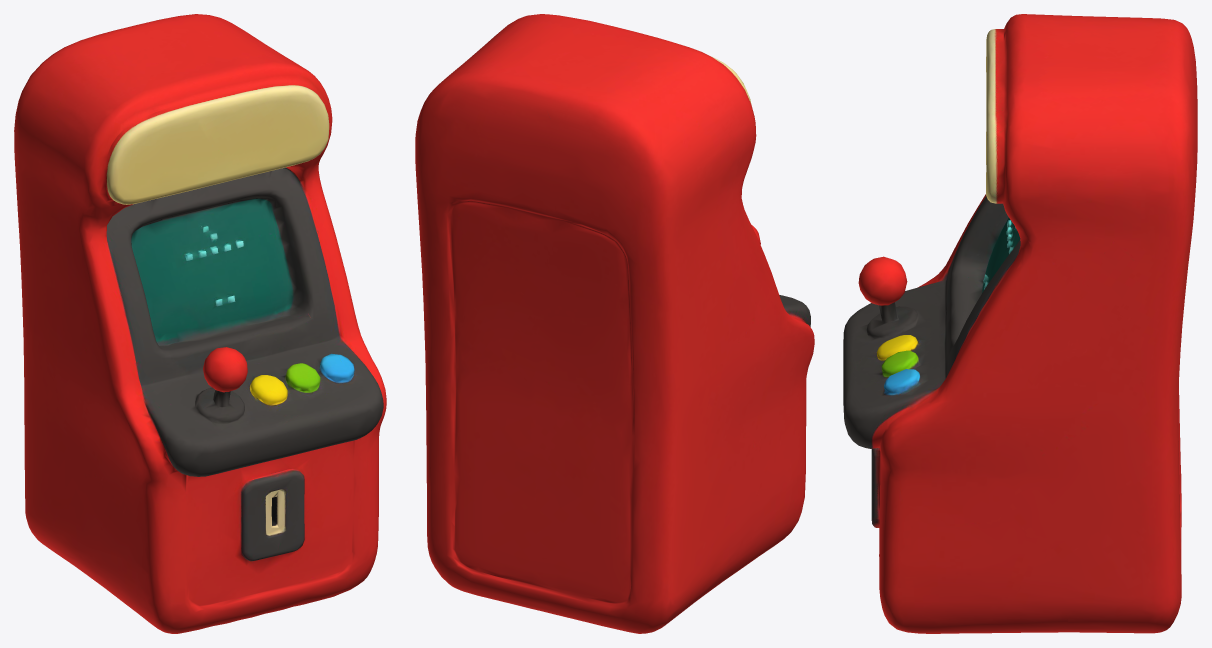
The model's file is ArcadeCabinet.fbx.
3 views of the same model, side by side, from view 1: azimuth 30°, elevation 25°; view 2: azimuth 150°, elevation 25°; view 3: azimuth 270°, elevation 25° (orthographic). The views are drawn at different scales.
Parts seen in each view (by area): view 1: ArcadeCabinet; view 2: ArcadeCabinet; view 3: ArcadeCabinet.
Part boxes in pixels (x1,y1,x2,y2): ArcadeCabinet: [14, 14, 386, 633]; ArcadeCabinet: [415, 14, 814, 633]; ArcadeCabinet: [843, 14, 1197, 633].
Bounding box in the file's own units: 0.5159 × 1 × 0.5942.
Materials: 1 (1 with a texture image).
